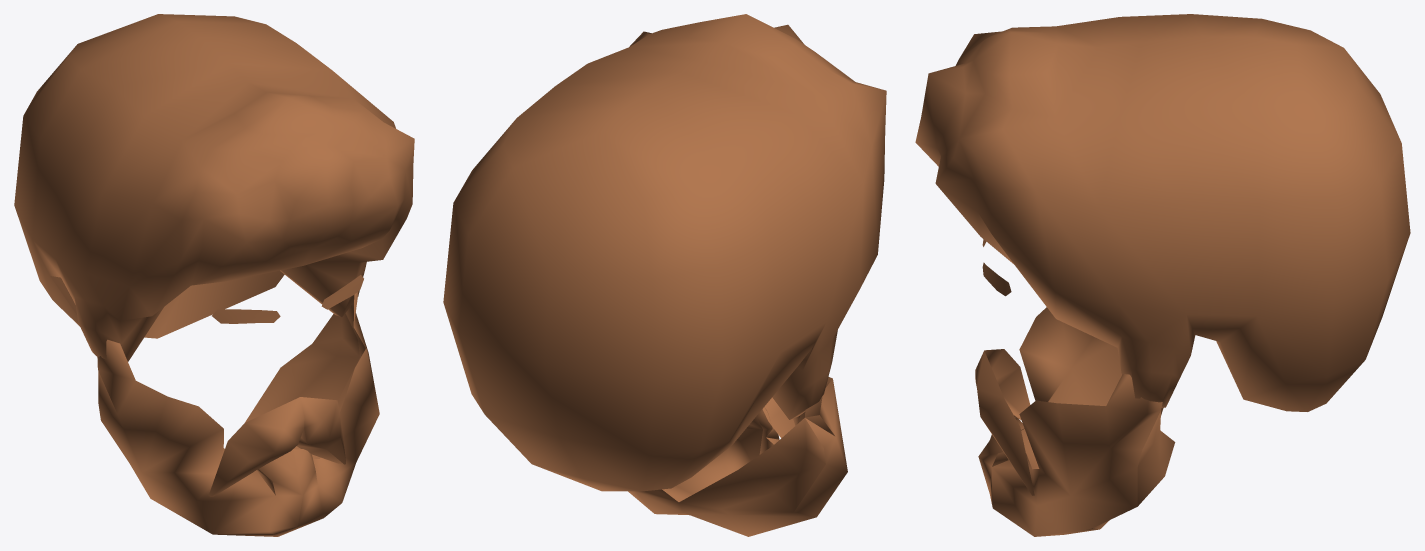
Rendered from HumanHair.fbx.
The picture shows the model from 3 angles, left to right: view 1: azimuth 30°, elevation 25°; view 2: azimuth 150°, elevation 25°; view 3: azimuth 270°, elevation 25°; orthographic projection. The views are drawn at different scales.
Visible parts, largest first — view 1: Hair - Fry, Beard - Danish Full, Brow - Default; view 2: Hair - Fry, Beard - Danish Full; view 3: Hair - Fry, Beard - Danish Full.
Part boxes in pixels (x1,y1,x2,y2): Hair - Fry: [14, 14, 414, 361]; Beard - Danish Full: [97, 291, 379, 536]; Brow - Default: [212, 275, 363, 323]; Hair - Fry: [443, 14, 886, 491]; Beard - Danish Full: [628, 377, 847, 536]; Hair - Fry: [915, 14, 1410, 411]; Beard - Danish Full: [975, 307, 1175, 536].
Size of the model in its own units: 0.2364 by 0.3306 by 0.3032.
